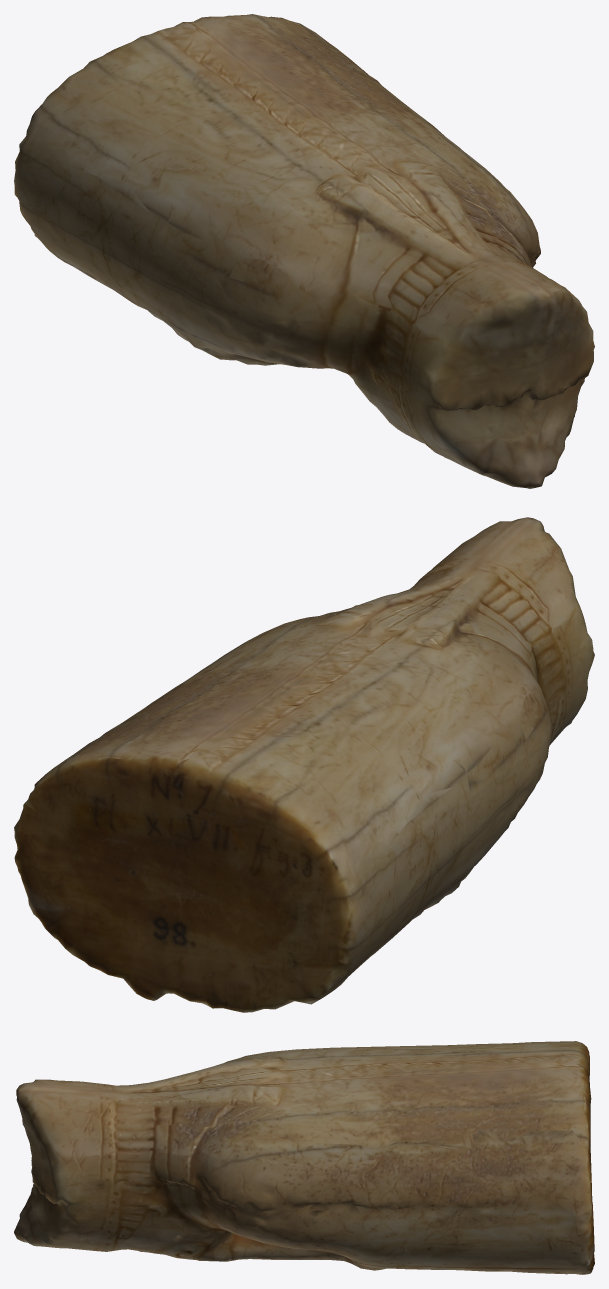
Rendered from Bishop.glb.
The picture shows the model from 3 angles, top to bottom: view 1: azimuth 30°, elevation 25°; view 2: azimuth 150°, elevation 25°; view 3: azimuth 270°, elevation 25°; orthographic projection. The views are drawn at different scales.
Visible parts, largest first — view 1: bishop; view 2: bishop; view 3: bishop.
Part boxes in pixels (box(x1,y1,x2,y2)): bishop: box(14, 14, 594, 488); bishop: box(14, 517, 594, 1012); bishop: box(14, 1041, 594, 1274).
Size of the model in its own units: 1.94 by 1.35 by 3.66.
1 material, 1 textured.
